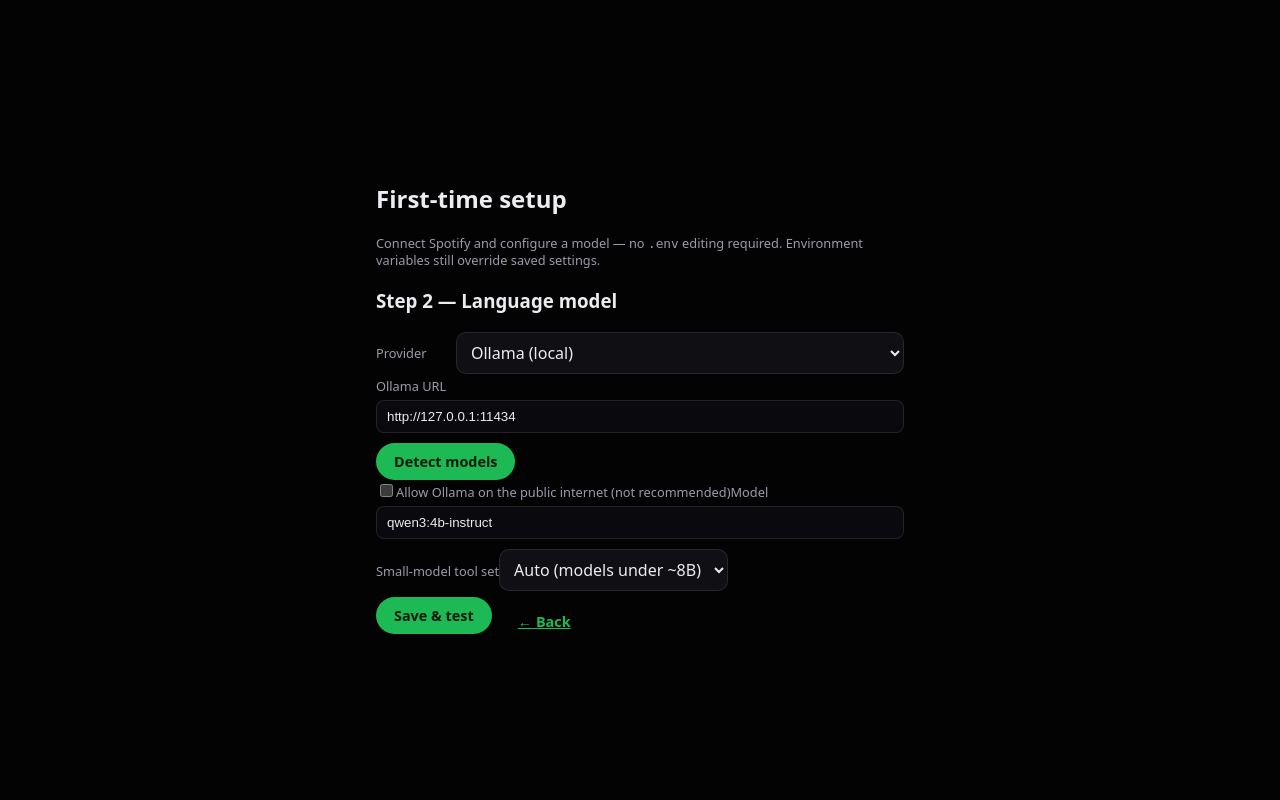
Test case: SetupWizard step 2 Ollama validation hints (item 4) › shows a clear message when the Ollama URL is empty
Expected: the heading "Step 2 — Language model" is shown, [376,288,617,313]
Clear the field labelled "Ollama URL" at (640, 416), box [376,400,904,433]
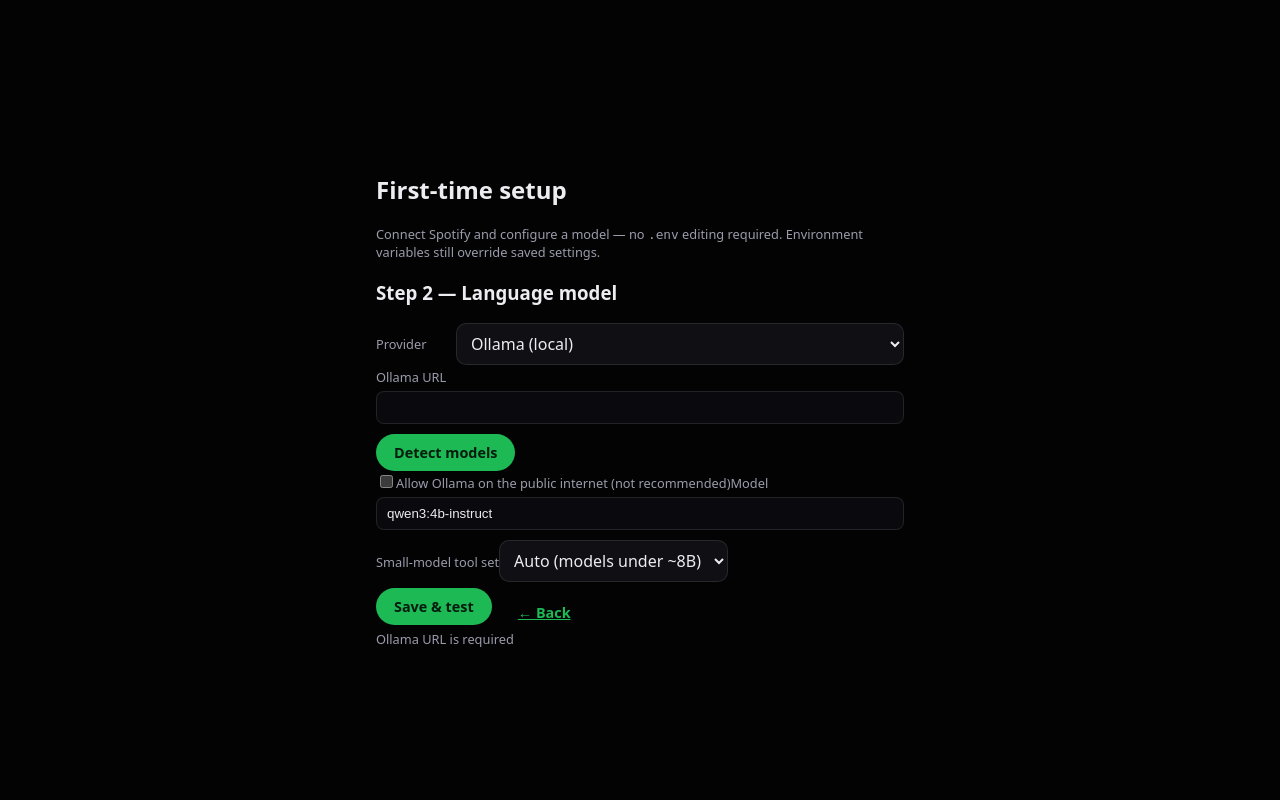
Expected: the text "Ollama URL is required" is shown, [376,630,514,648]
